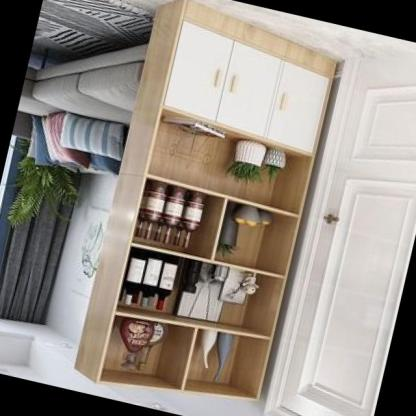Shelf: (68, 3, 346, 416)
